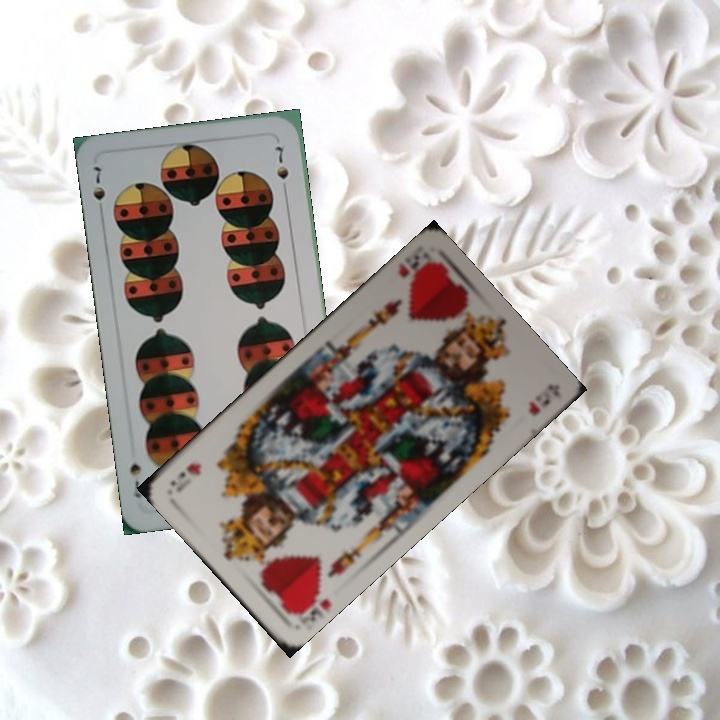HK: (286, 581, 334, 619), (394, 250, 436, 288)
S7: (89, 162, 108, 219)
